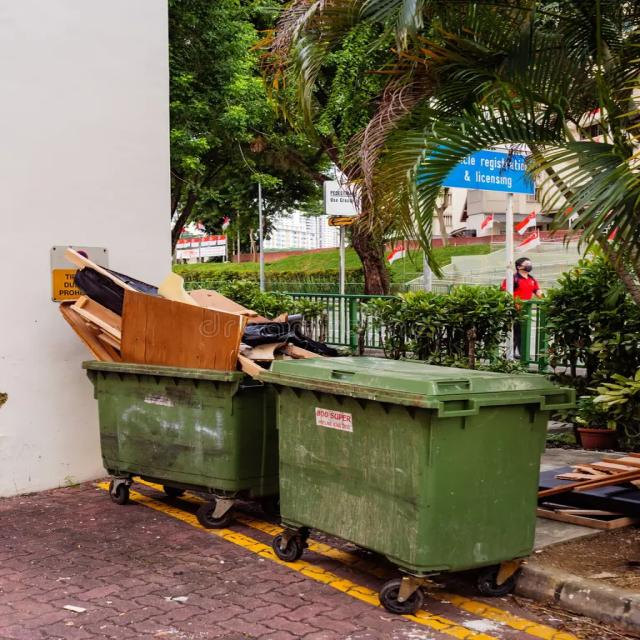bin_empty: (266, 356, 552, 613)
bin_full: (76, 250, 266, 512)
bulk_waste: (58, 245, 280, 372)
